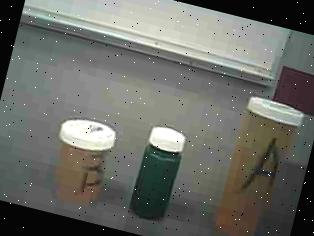Bottle A: (204, 89, 304, 236)
Bottle B: (33, 107, 126, 215)
Bottle C: (124, 118, 198, 230)
